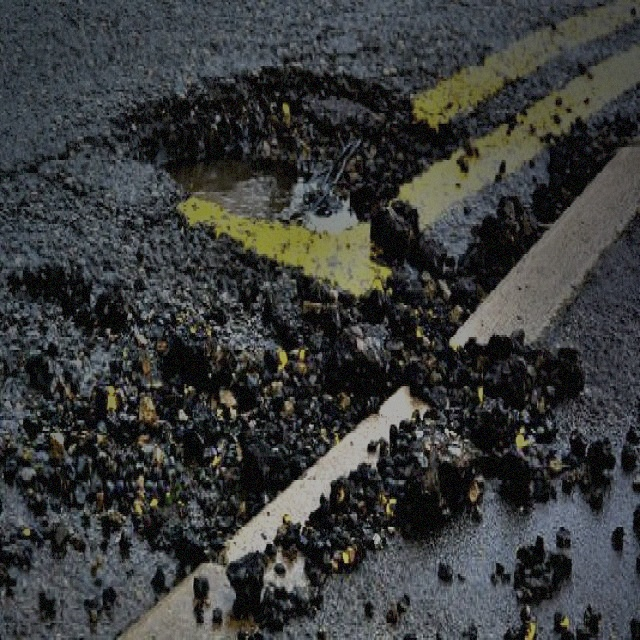pothole: (109, 58, 458, 218)
